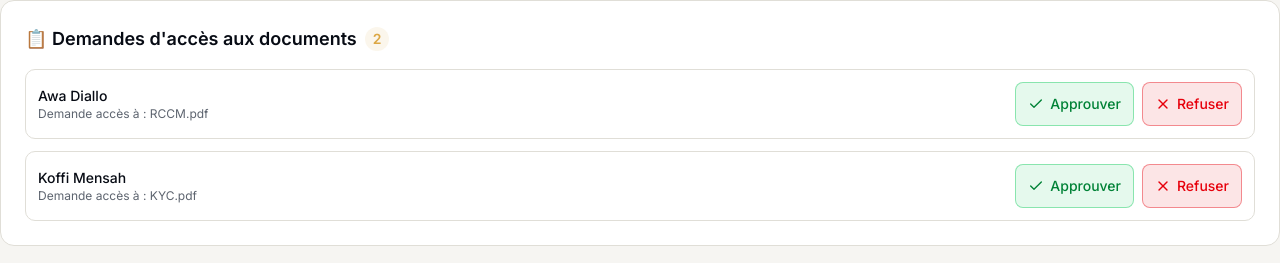
Test: DocumentAccessRequests › removes approved request from the list
Check: the text "Awa Diallo" is shown, box 38,87 -> 107,104
Step 1. Click the button "Approuver" in the row of "RCCM.pdf" → click(1075, 104), box 1015,82 -> 1134,126
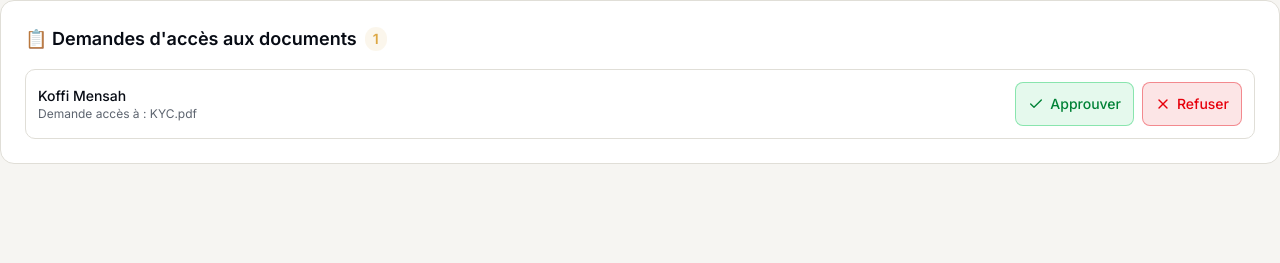
Check: the text "Koffi Mensah" is shown, box 38,87 -> 126,104
Check: the text "Awa Diallo" is gone
